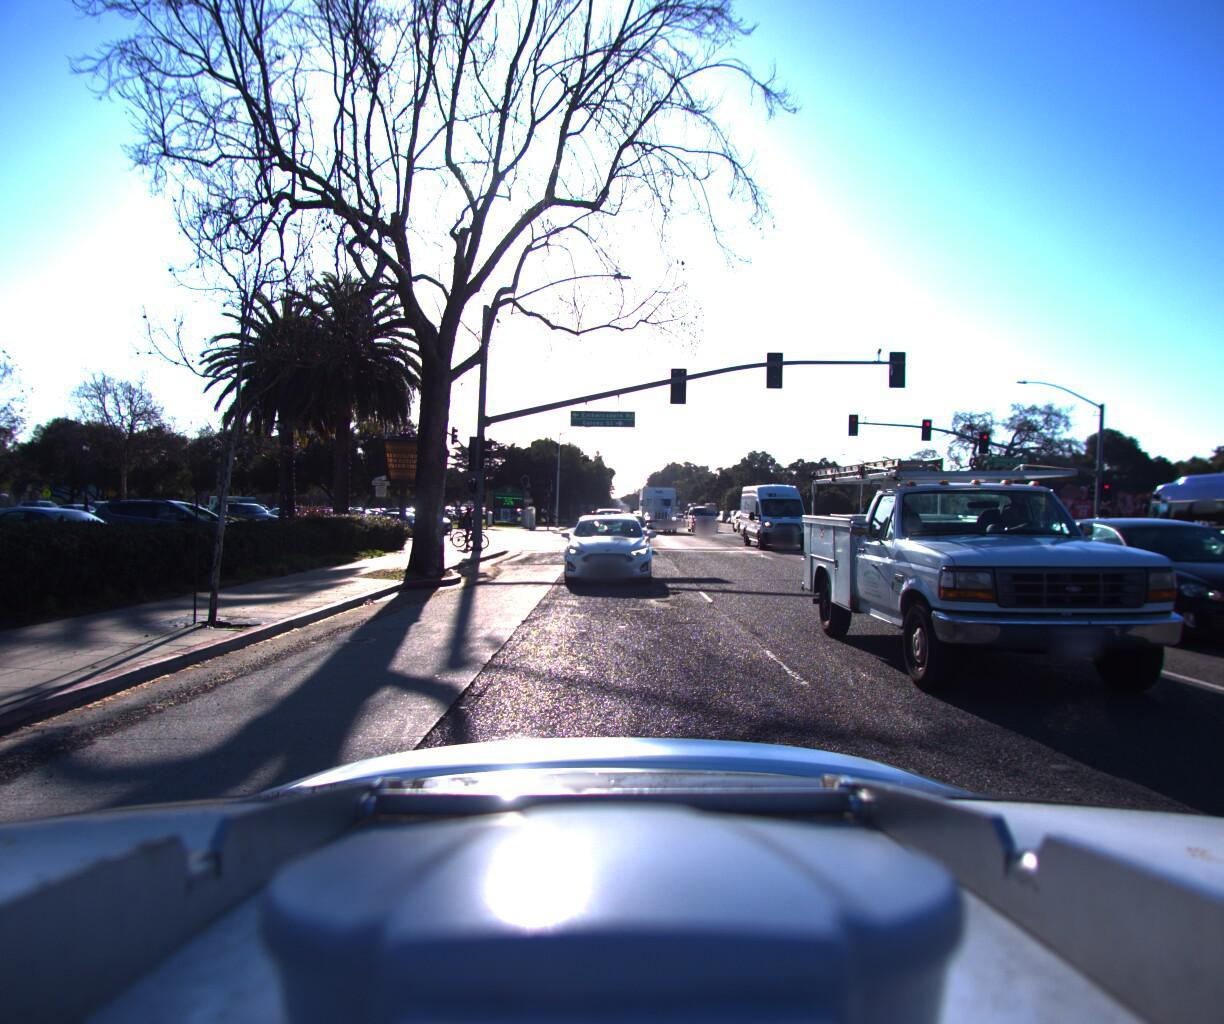bicycle: (448, 502, 491, 549)
bus: (1120, 411, 1224, 649)
car: (815, 420, 1224, 762), (1047, 508, 1224, 672), (0, 501, 175, 589), (81, 491, 278, 565), (1032, 513, 1221, 584), (559, 507, 654, 589), (742, 477, 820, 549), (1190, 469, 1224, 636), (208, 499, 287, 527), (596, 506, 644, 550), (46, 501, 117, 524), (688, 498, 718, 530)
other_vehicle: (201, 492, 276, 525)
truck: (634, 480, 682, 531)
